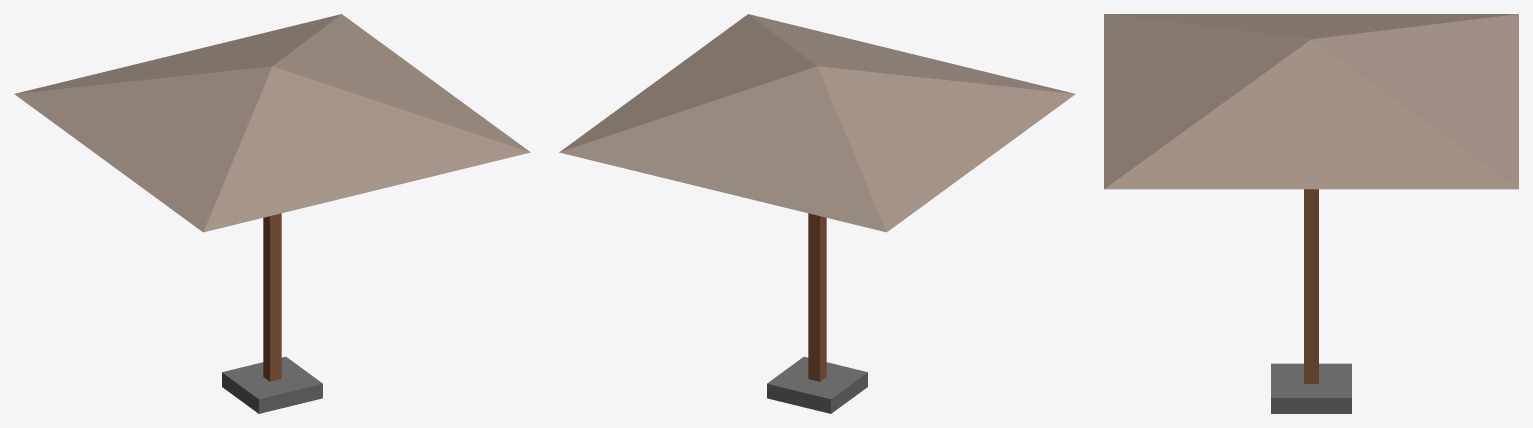
The model's file is Umbrella_01.fbx.
The picture shows the model from 3 angles, left to right: view 1: azimuth 30°, elevation 25°; view 2: azimuth 150°, elevation 25°; view 3: azimuth 270°, elevation 25°; orthographic projection. The views are drawn at different scales.
Visible parts, largest first — view 1: Umbrella_01; view 2: Umbrella_01; view 3: Umbrella_01.
Part boxes in pixels (x1=…): Umbrella_01: x1=14, y1=14, x2=530, y2=413; Umbrella_01: x1=559, y1=14, x2=1075, y2=413; Umbrella_01: x1=1104, y1=14, x2=1518, y2=413.
Bounding box in the file's own units: 300 × 285 × 300.
